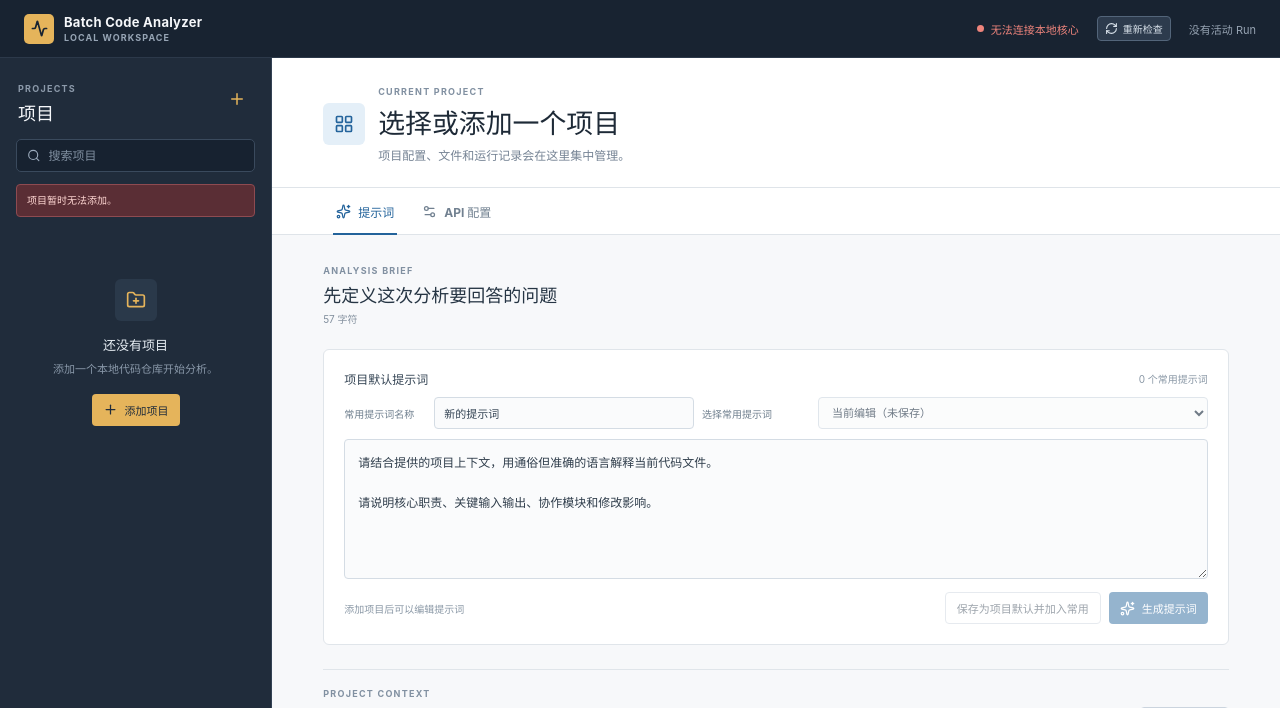
Scenario: App › shows a safe error and can retry
The width and height of the screenshot is (1280, 708).
Expected: the text "无法连接本地核心" is shown, x1=977 y1=20 x2=1079 y2=36
Click the button "重新检查" at {"x": 1134, "y": 28}, box x1=1097 y1=16 x2=1171 y2=41
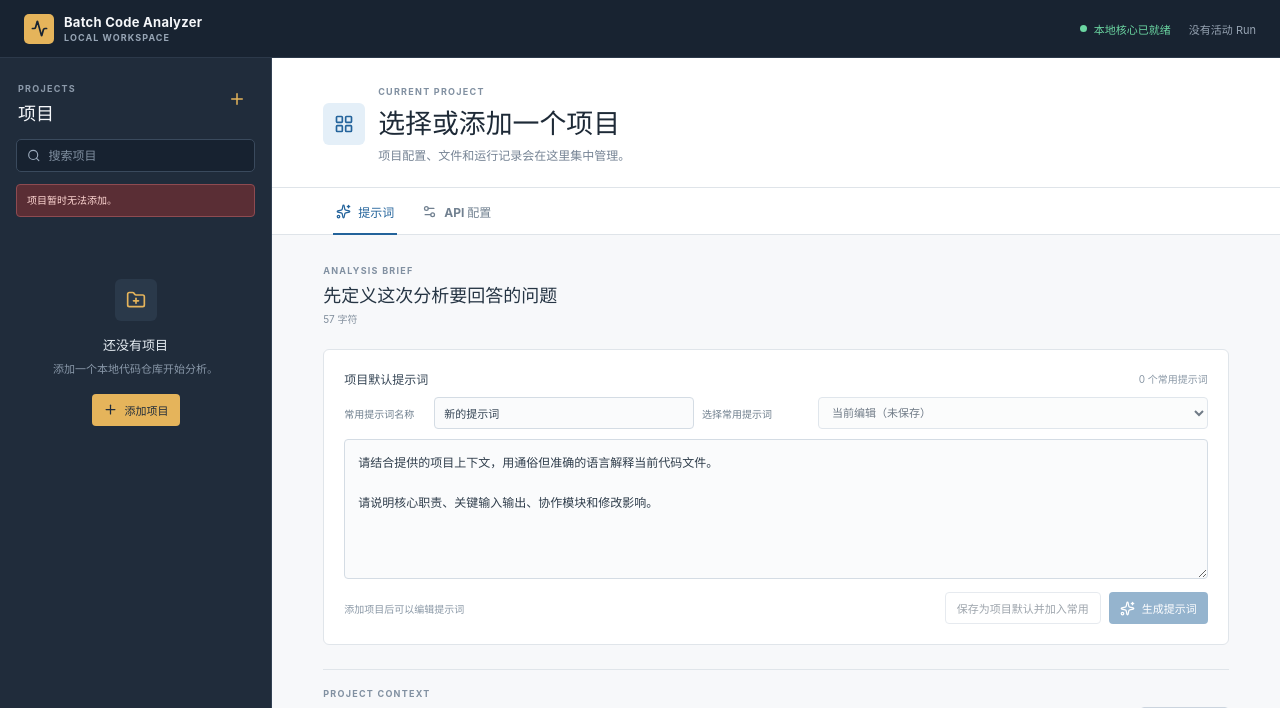
Expected: the text "本地核心已就绪" is shown, x1=1080 y1=20 x2=1171 y2=36
